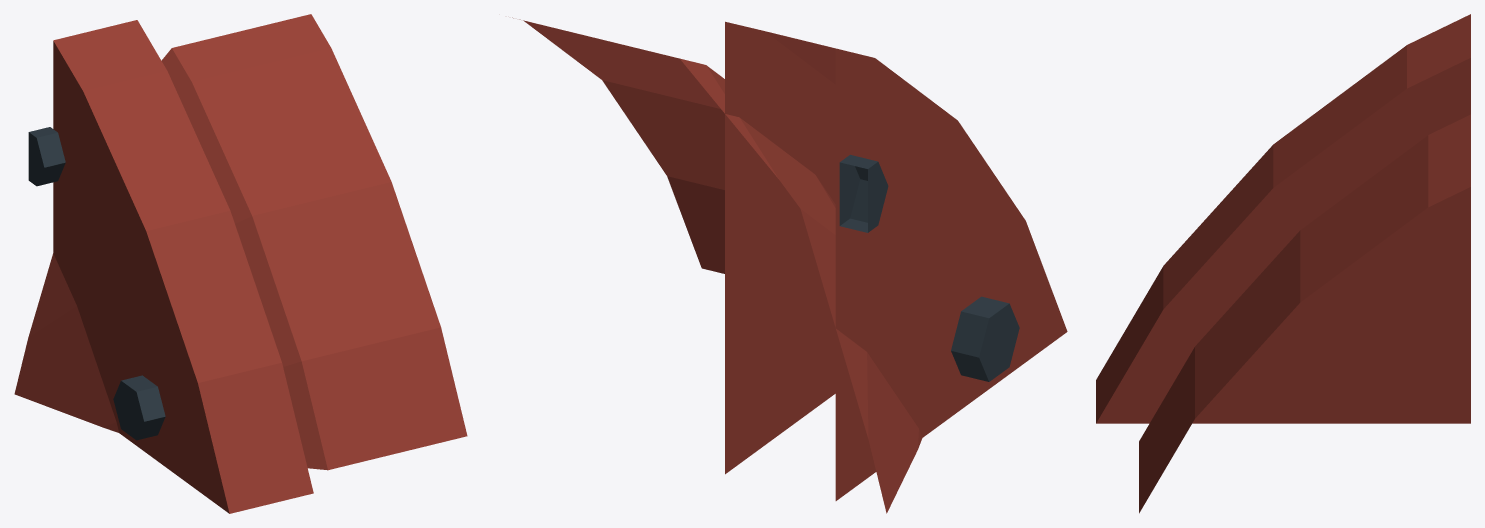
The model's file is cell_73.obj.
3 renders of one model, left to right at view 1: azimuth 30°, elevation 25°; view 2: azimuth 150°, elevation 25°; view 3: azimuth 270°, elevation 25°, orthographic. The views are drawn at different scales.
Size of the model in its own units: 0.4267 by 0.4732 by 0.4392.
